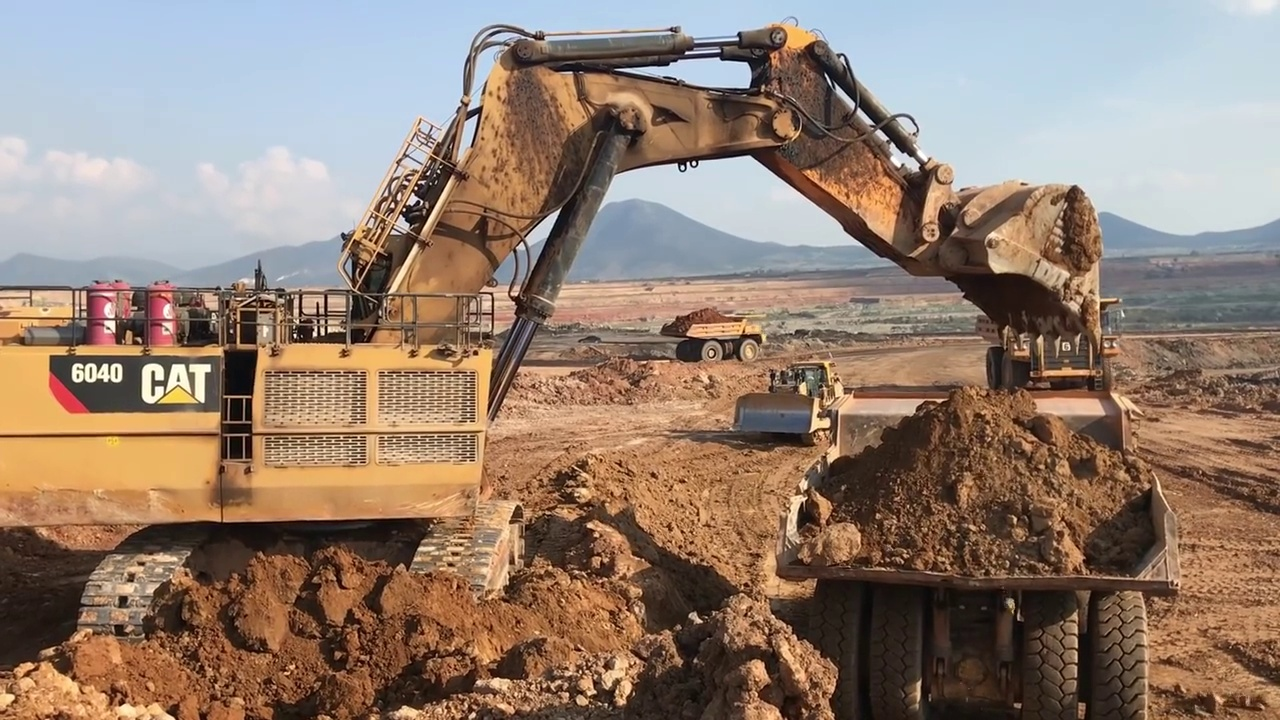bulldozer: (733, 361, 844, 445)
dumper: (785, 380, 1182, 716), (661, 308, 766, 361)
excavator: (1, 12, 1104, 669)
